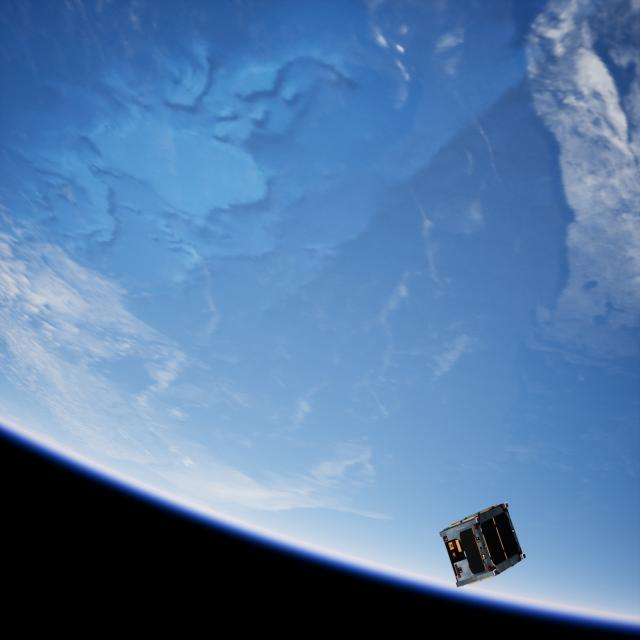satellite: (442, 491, 528, 586)
